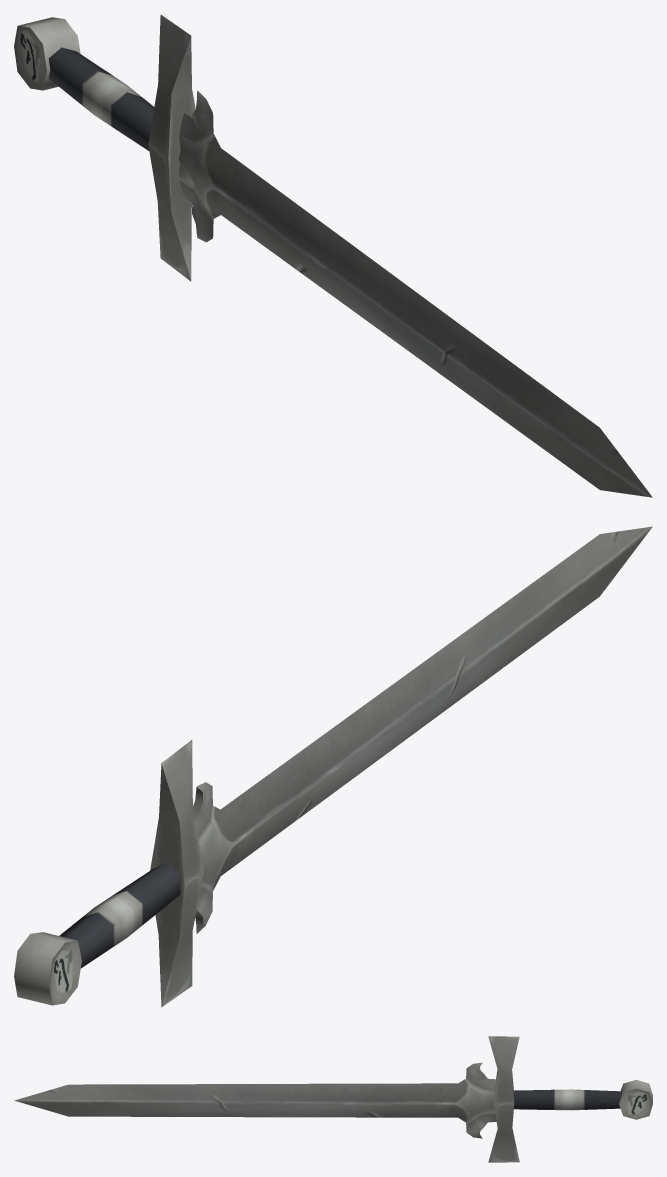
File: sword.fbx
3 renders of one model, top to bottom at view 1: azimuth 30°, elevation 25°; view 2: azimuth 150°, elevation 25°; view 3: azimuth 270°, elevation 25°, orthographic. The views are drawn at different scales.
Visible parts, largest first — view 1: Sword2; view 2: Sword2; view 3: Sword2.
Boxes of the visible parts, x1,y1,x2,y2 form: Sword2: (14, 14, 652, 497); Sword2: (14, 526, 652, 1007); Sword2: (14, 1036, 652, 1162).
Bounding box in the file's own units: 0.00063 × 0.00418 × 0.0191.
Materials: 1 (1 with a texture image).
